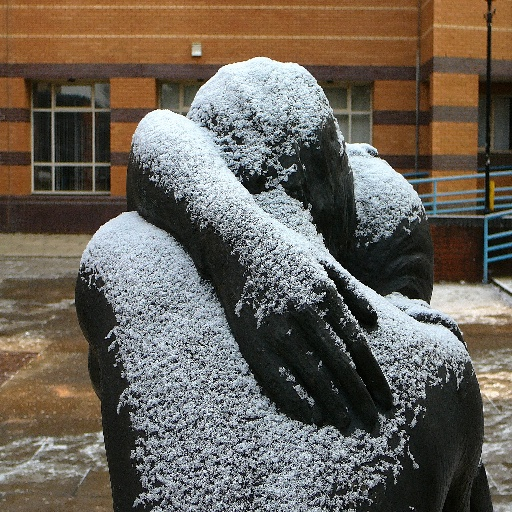hand: (216, 242, 393, 418), (383, 291, 466, 344)
